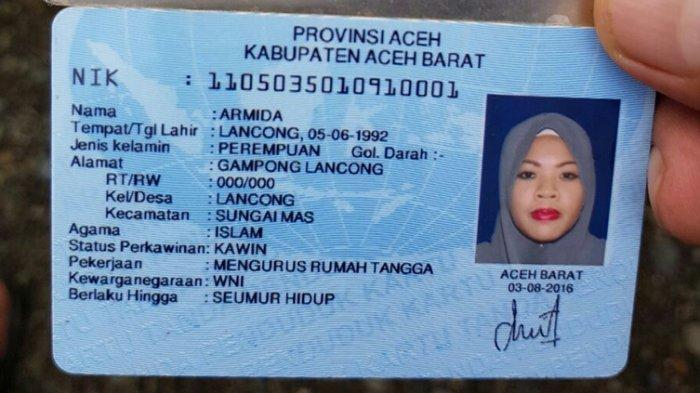ID-card: (53, 9, 650, 371)
